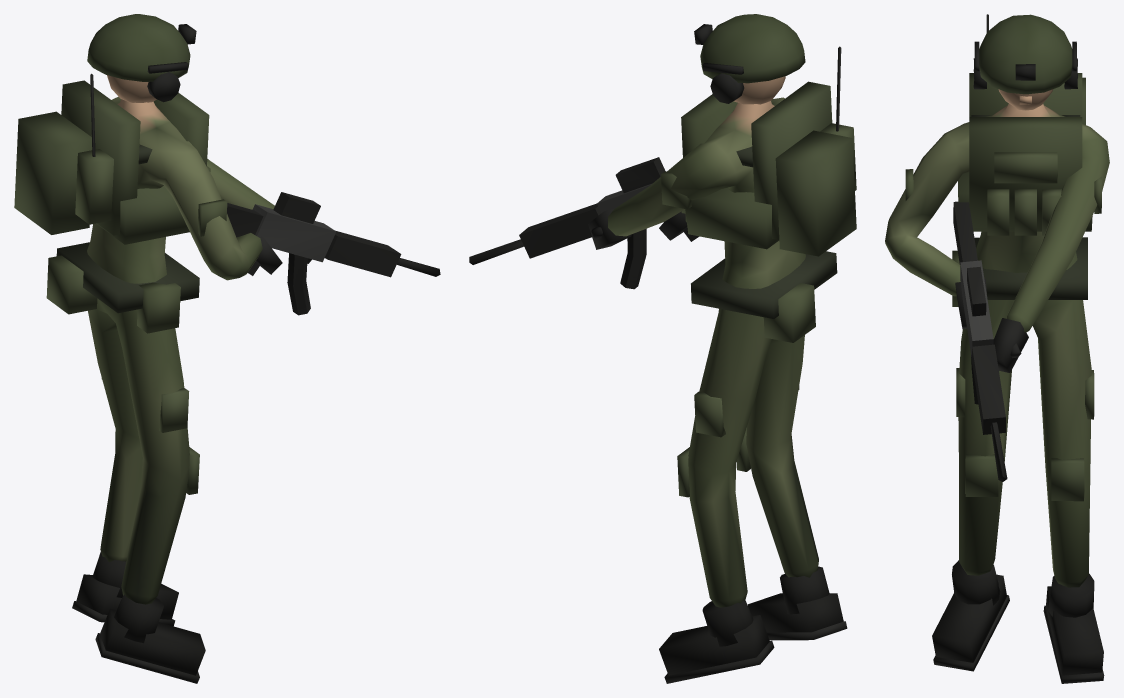
Rendered from soldier_stand_opfor.glb.
The picture shows the model from 3 angles, left to right: view 1: azimuth 30°, elevation 25°; view 2: azimuth 150°, elevation 25°; view 3: azimuth 270°, elevation 25°; orthographic projection. The views are drawn at different scales.
Visible parts, largest first — view 1: soldier; view 2: soldier; view 3: soldier.
Boxes of the visible parts, x1,y1,x2,y2 form: soldier: (14,14,440,683); soldier: (469,14,856,683); soldier: (885,14,1109,683).
Bounding box in the file's own units: 1.17 × 1.84 × 0.5895.
